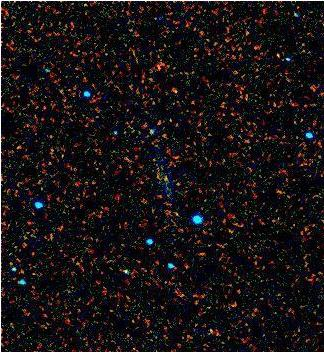star: (150, 170, 180, 200)
